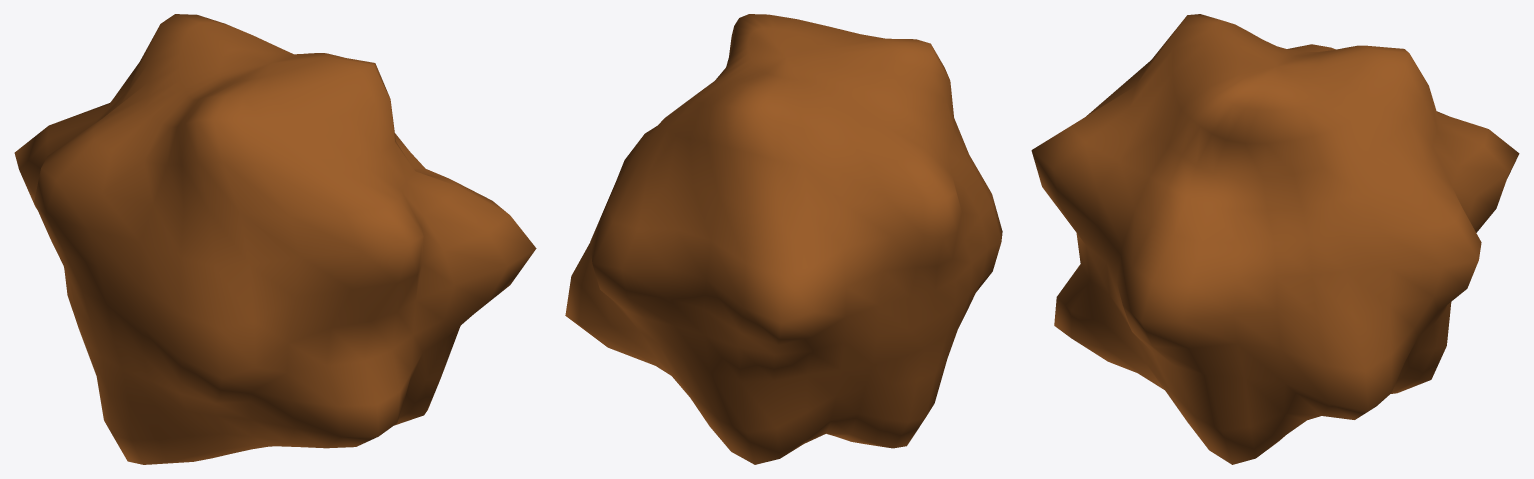
File: Asteroid5.fbx
3 views of the same model, side by side, from view 1: azimuth 30°, elevation 25°; view 2: azimuth 150°, elevation 25°; view 3: azimuth 270°, elevation 25° (orthographic). The views are drawn at different scales.
Visible parts, largest first — view 1: Sphere; view 2: Sphere; view 3: Sphere.
Part boxes in pixels (box(x1,y1,x2,y2)): Sphere: box(14, 14, 536, 464); Sphere: box(565, 14, 1002, 464); Sphere: box(1031, 14, 1519, 464).
Size of the model in its own units: 2.32 by 2.16 by 2.66.
